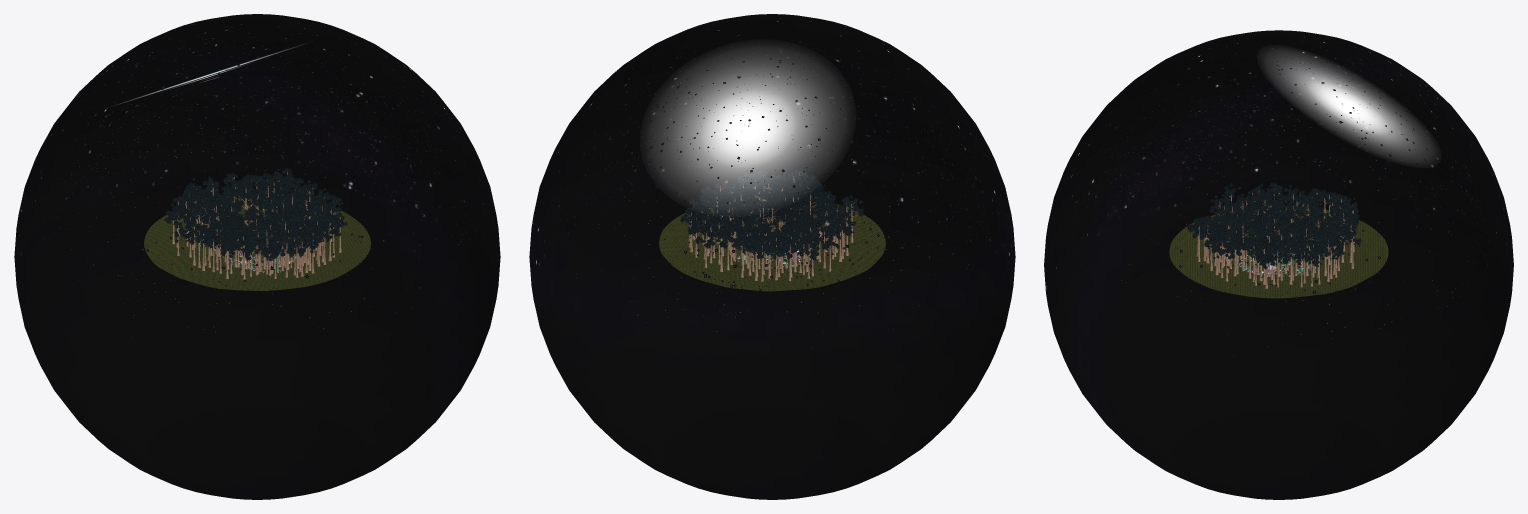
The model's file is forest.glb.
3 views of the same model, side by side, from view 1: azimuth 30°, elevation 25°; view 2: azimuth 150°, elevation 25°; view 3: azimuth 270°, elevation 25° (orthographic). The views are drawn at different scales.
Visible parts, largest first — view 1: G_SkyDome, Trees, Ground, G_StarField; view 2: G_SkyDome, G_MoonGlow_Sky, Trees, Ground, G_StarField; view 3: G_SkyDome, Trees, G_MoonGlow_Sky, Ground, G_StarField.
Part boxes in pixels (left/top/right/bottom): G_SkyDome: left=14, top=14, right=500, bottom=499; Trees: left=163, top=167, right=347, bottom=279; Ground: left=144, top=196, right=370, bottom=290; G_StarField: left=39, top=38, right=474, bottom=353; G_SkyDome: left=529, top=14, right=1015, bottom=499; G_MoonGlow_Sky: left=654, top=51, right=841, bottom=205; Trees: left=680, top=169, right=863, bottom=281; Ground: left=659, top=196, right=885, bottom=291; G_StarField: left=553, top=38, right=990, bottom=348; G_SkyDome: left=1044, top=30, right=1513, bottom=499; Trees: left=1188, top=182, right=1361, bottom=288; G_MoonGlow_Sky: left=1269, top=53, right=1429, bottom=159; Ground: left=1169, top=205, right=1388, bottom=298; G_StarField: left=1069, top=55, right=1489, bottom=359.
Size of the model in its own units: 300 by 300 by 300.
123 materials, 48 textured.
